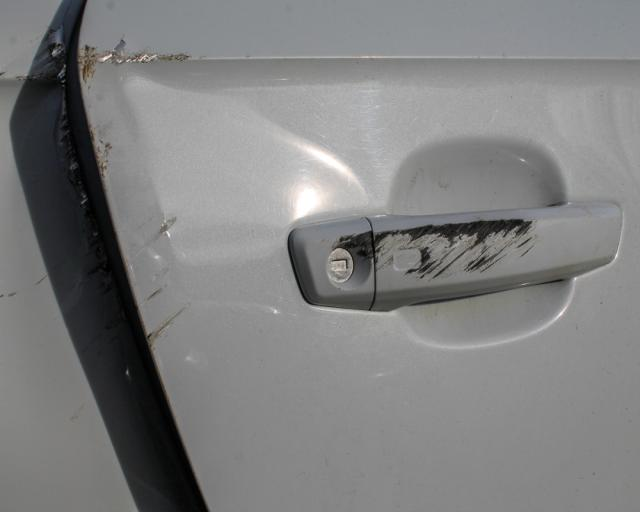scratch: (43, 33, 115, 321), (336, 216, 540, 282), (127, 206, 191, 346), (82, 41, 189, 84)
